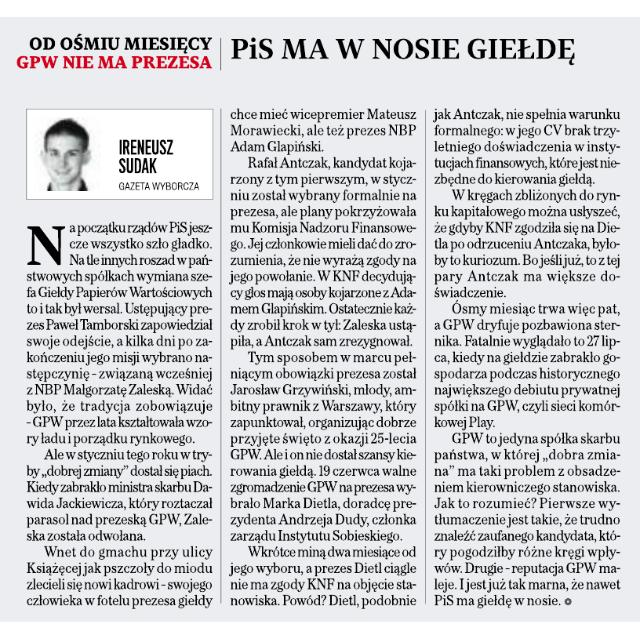author: (114, 132, 178, 176)
body: (430, 102, 628, 610), (226, 104, 422, 612), (21, 215, 217, 613)
title: (10, 26, 588, 80)
